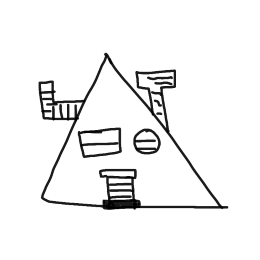chimney: (124, 62, 192, 128), (22, 78, 94, 123)
closed_window: (70, 122, 133, 161), (127, 121, 167, 161)
door: (90, 159, 149, 214)
single_line_roof: (32, 45, 193, 133)
wall: (37, 127, 236, 222)
